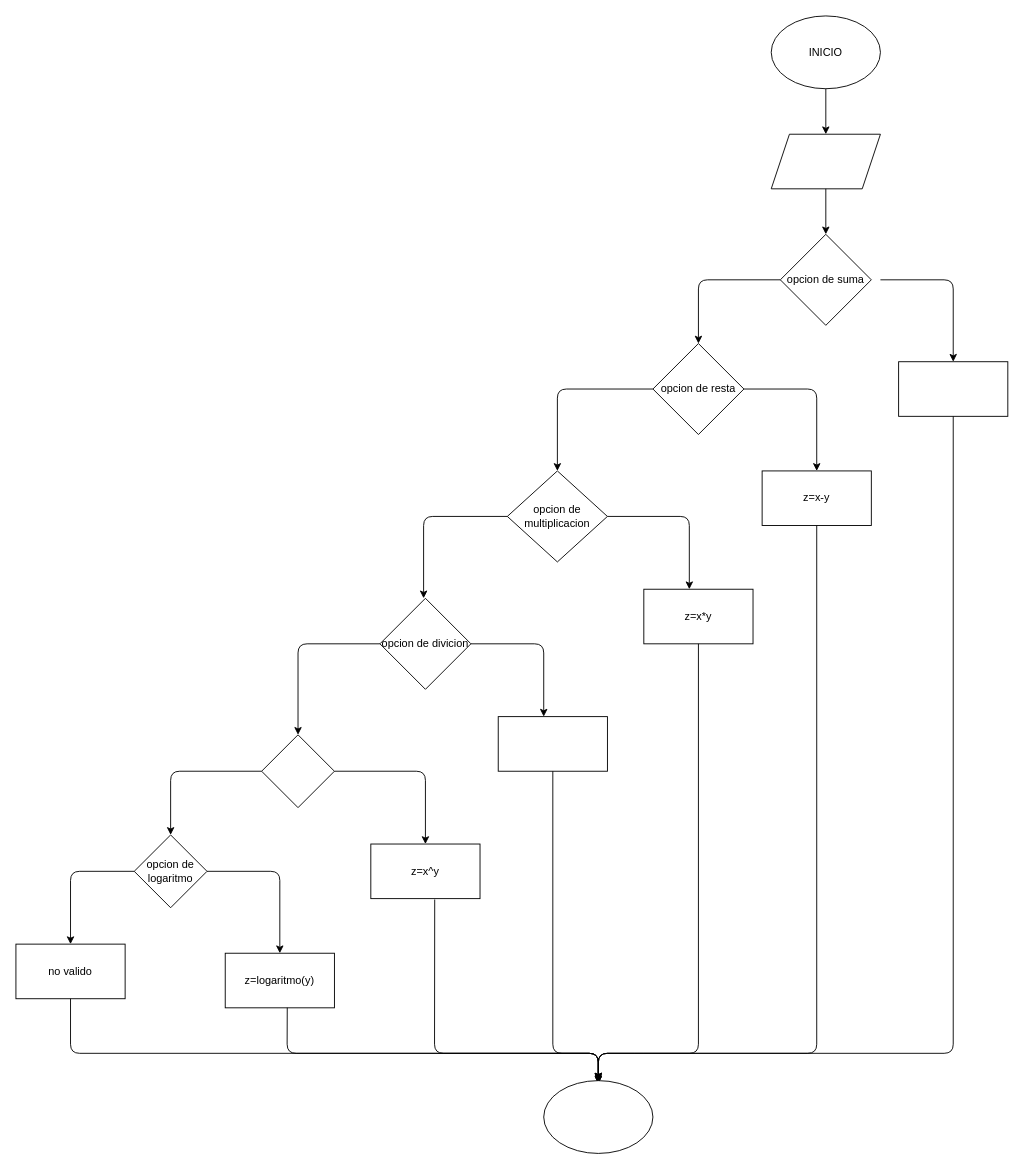
Image size: 1024x1169. Some labels were removed from this diagram. The shapes that lost their labels are listed below. From the top down, each one's centre as x and y in pixels, then its label:
point 825,161: x,y
point 953,388: z=x+y
point 552,743: z=x/y
point 297,771: opcion de potencia
point 598,1116: FIN
